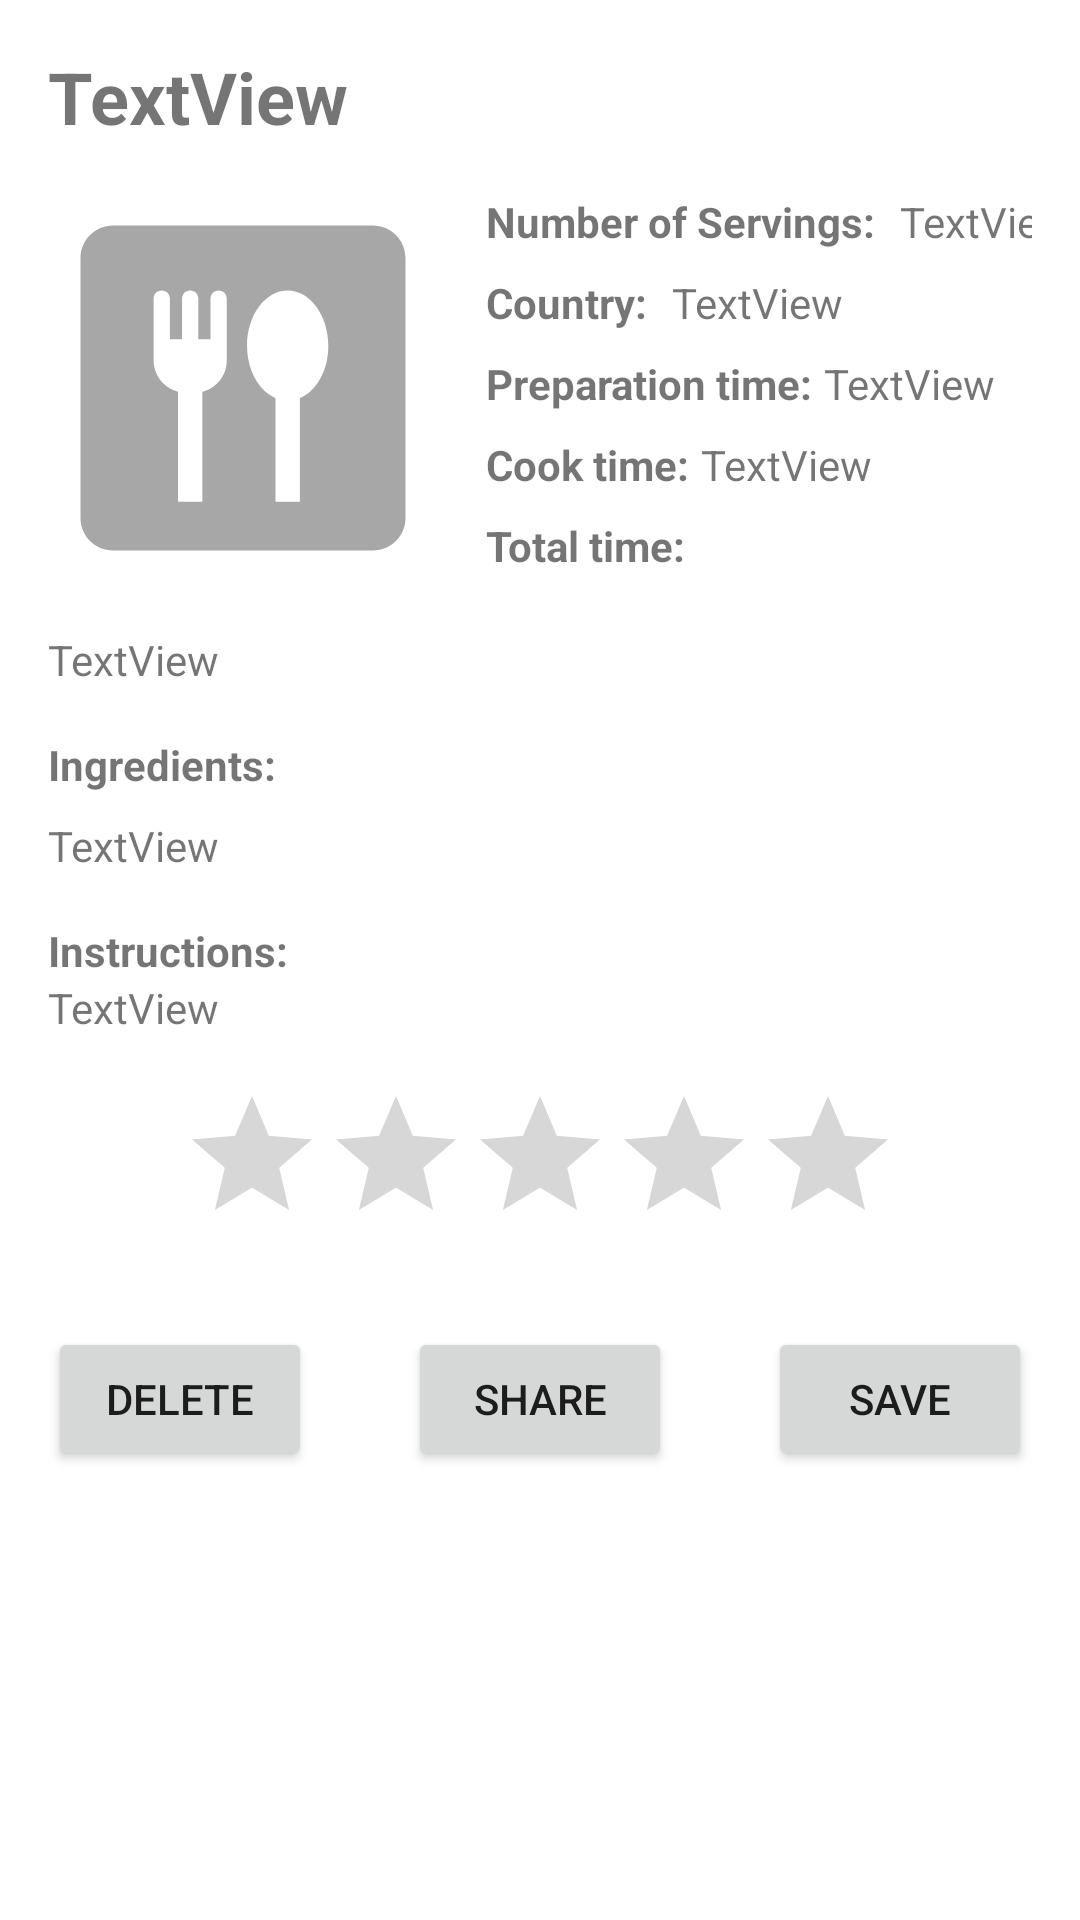

Icon click points for this 1080×1920 phone screenshot, format [x,y]:
recipe: [243,388]
